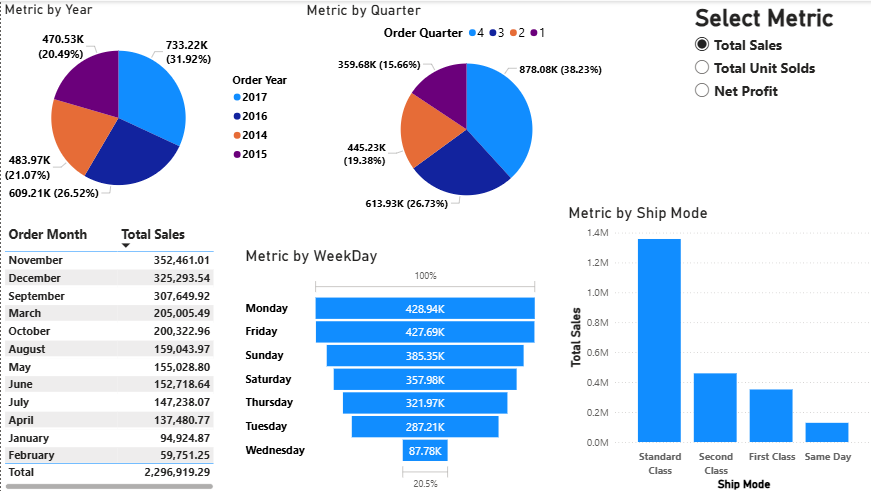

The page's visual inventory and layout, read from the dashboard file:
{"tool":"powerbi","page":{"name":"Sales Trend & Performence","canvas":[1280,720],"ordinal":2},"visuals":[{"type":"tableEx","fields":{"Values":["orders_fact.Order Month","orders_fact.Total Sales"]},"box":[0,322.5,315.8,398.1],"z":0},{"type":"pieChart","title":"Metric by Quarter","fields":{"Y":["orders_fact.Total Sales"],"Category":["orders_fact.Order Quarter"]},"box":[441.8,0,478.7,319.2],"z":1000},{"type":"funnel","title":"Metric by WeekDay","fields":{"Y":["orders_fact.Total Sales"],"Category":["orders_fact.Order Day"]},"box":[352.8,359.5,438.4,361.2],"z":2000},{"type":"pieChart","title":"Metric by Year","fields":{"Y":["orders_fact.Total Sales"],"Category":["orders_fact.Order Year"]},"box":[0,0,446.8,319.2],"z":3000},{"type":"clusteredColumnChart","title":"Metric by Ship Mode","fields":{"Y":["orders_fact.Total Sales"],"Category":["orders_fact.Ship Mode"]},"box":[824.8,297.3,455.2,423.3],"z":4000},{"type":"slicer","fields":{"Values":["Parameter.Parameter"]},"box":[1002.8,0,277.2,159.6],"z":5000}]}

Visuals, with their boxes in screenshot pixels (x1, y1, x2, y2), scaled from the page's 1280x720 canvas onto the 871x491 screenshot:
tableEx - orders_fact.Order Month x orders_fact.Total Sales: (0, 220, 215, 490)
"Metric by Quarter" pieChart: (301, 0, 626, 218)
"Metric by WeekDay" funnel: (240, 245, 538, 490)
"Metric by Year" pieChart: (0, 0, 304, 218)
"Metric by Ship Mode" clusteredColumnChart: (561, 203, 870, 490)
slicer - Parameter.Parameter: (682, 0, 870, 109)
